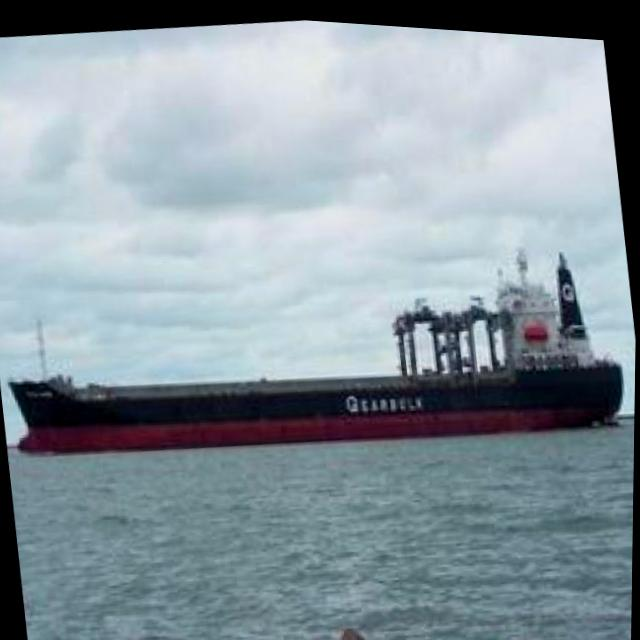ship2: (7, 240, 623, 457)
